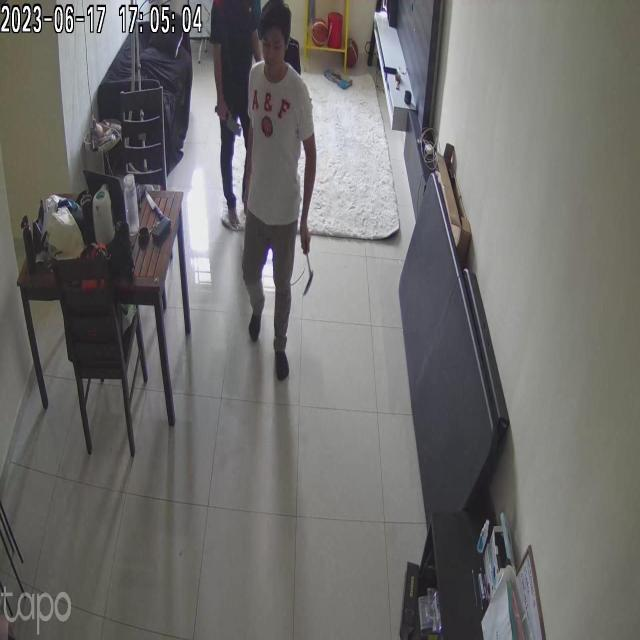Knife: (211, 100, 247, 141)
